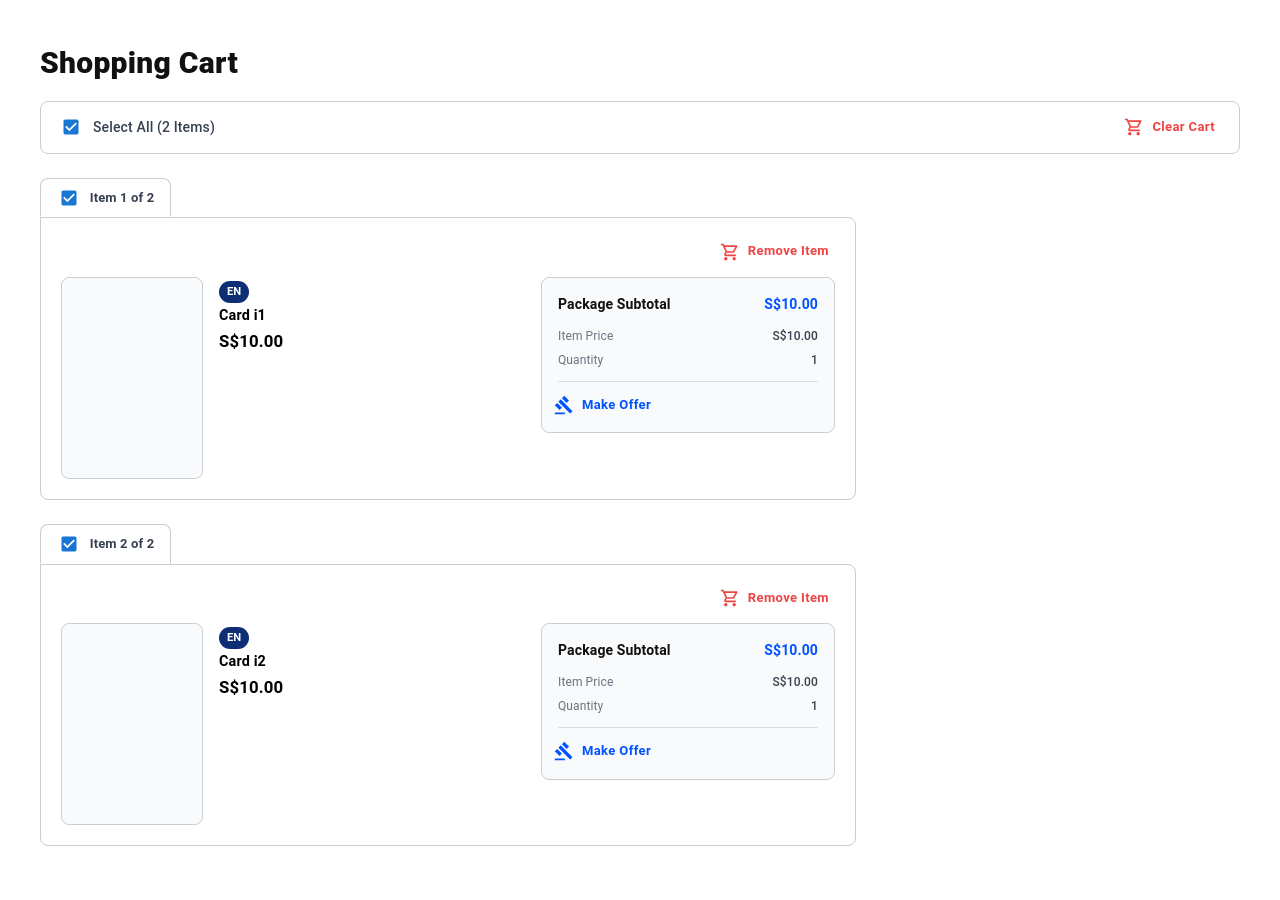
Test case: CartPage › restores the cart and shows an error when DELETE /api/cart fails
This screenshot has width=1280, height=900.
Check: the heading "Shopping Cart" is shown, box [40, 45, 238, 80]
Click the button "Clear Cart" at {"x": 1172, "y": 127}, box [1120, 110, 1223, 145]
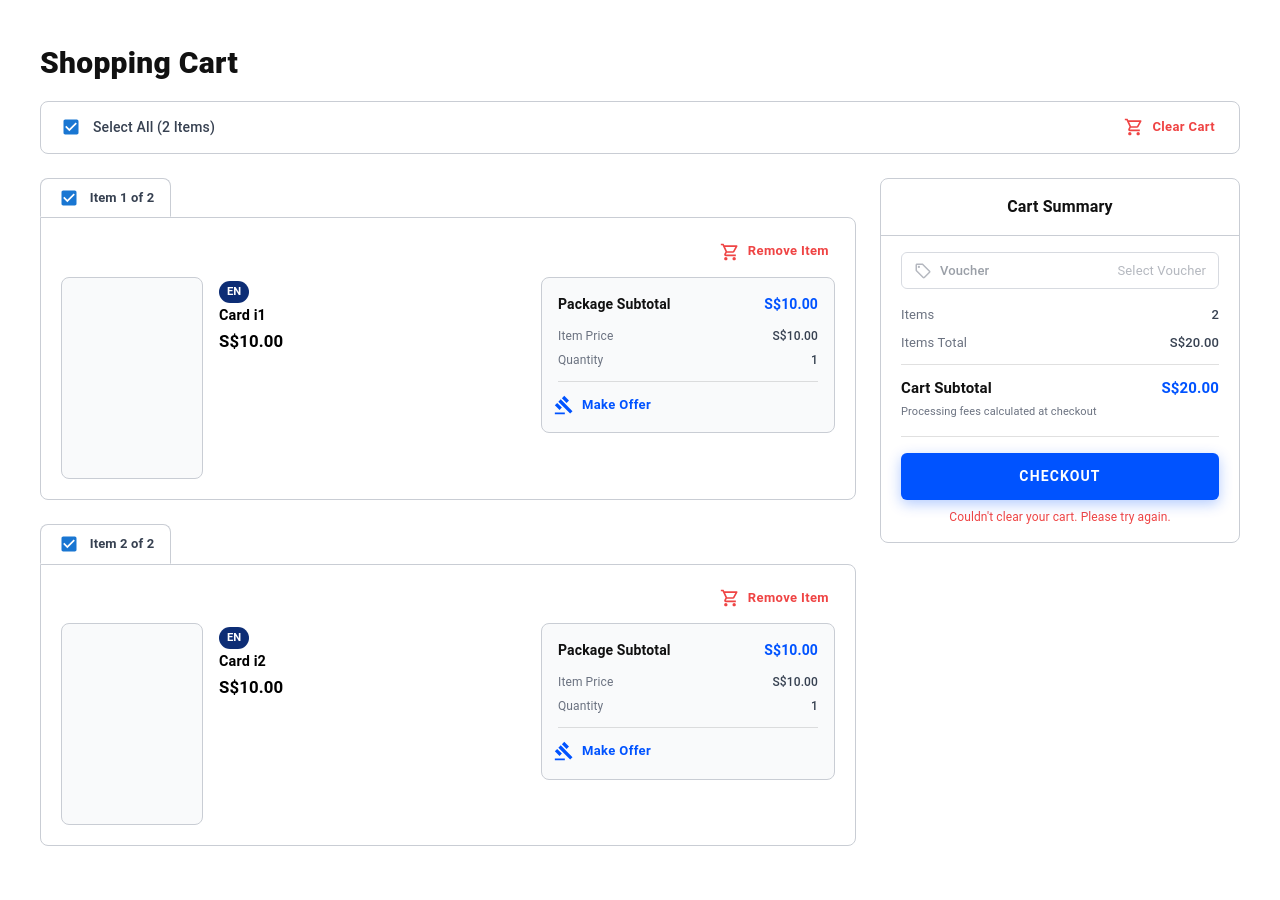
Check: the text "Card i2" is shown, box [219, 653, 266, 670]
Check: the text "Couldn't clear your cart. Please try again." is shown, box [949, 510, 1171, 524]
